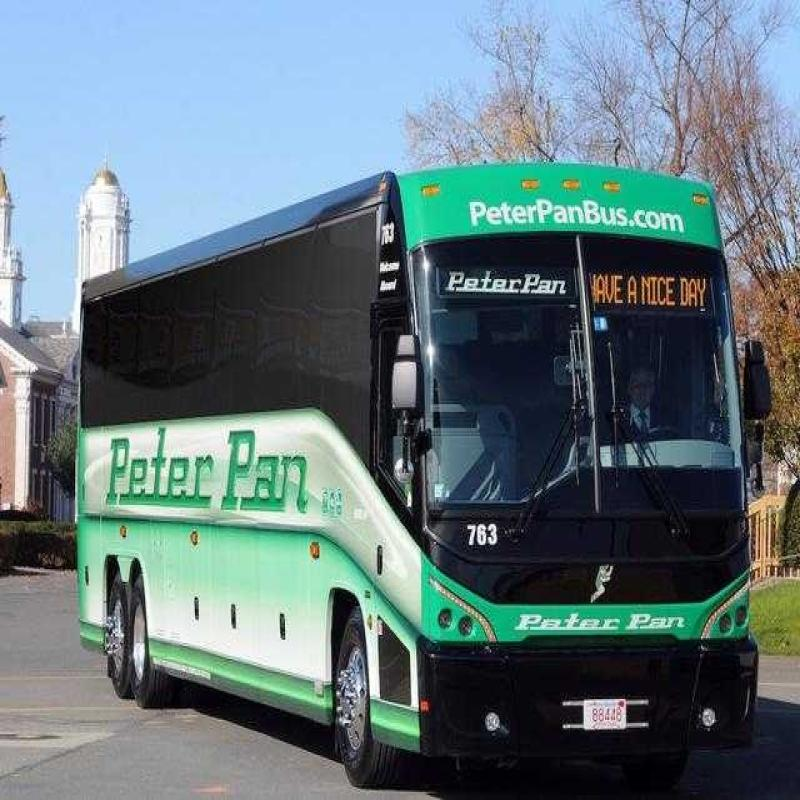bus: (50, 150, 783, 797)
